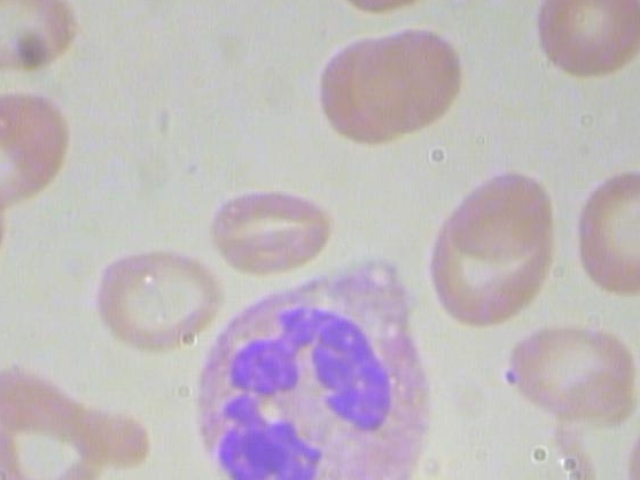RBC: (83, 247, 223, 357), (196, 169, 335, 279), (504, 312, 640, 422), (351, 22, 463, 136), (0, 81, 81, 216), (562, 162, 640, 300), (450, 157, 551, 261), (527, 0, 640, 91), (0, 0, 81, 77)
WBC: (191, 245, 435, 480)
